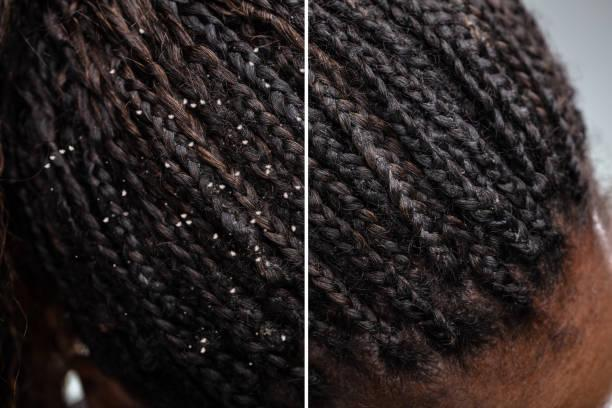dandruff: (206, 225, 272, 272), (166, 87, 234, 121), (226, 151, 278, 188), (242, 41, 281, 88), (42, 132, 85, 172), (96, 185, 155, 201), (187, 335, 222, 358), (102, 257, 141, 272), (229, 119, 251, 145), (270, 185, 302, 201), (202, 174, 222, 197), (155, 156, 177, 175), (169, 212, 189, 229), (180, 135, 199, 152), (106, 63, 124, 80), (94, 211, 111, 228), (69, 249, 85, 265), (42, 186, 60, 200), (269, 329, 289, 341), (132, 24, 149, 37), (286, 218, 296, 235), (186, 282, 198, 296), (182, 305, 194, 318), (202, 300, 216, 311), (225, 285, 238, 296), (290, 68, 305, 76), (294, 114, 304, 125), (119, 311, 131, 319), (245, 361, 251, 363)
